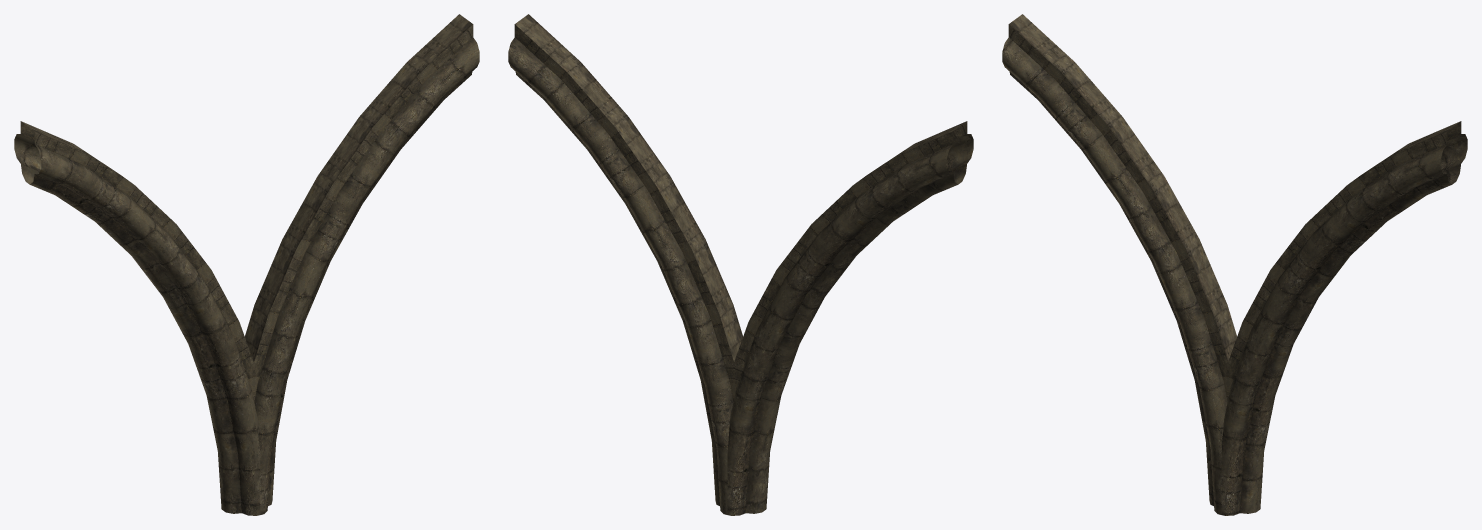
File: NC_arch.DAE
3 views of the same model, side by side, from view 1: azimuth 30°, elevation 25°; view 2: azimuth 150°, elevation 25°; view 3: azimuth 330°, elevation 25° (orthographic).
Visible parts, largest first — view 1: NC_arch; view 2: NC_arch; view 3: NC_arch.
Part boxes in pixels (bbox=[...]): NC_arch: bbox=[14, 14, 479, 515]; NC_arch: bbox=[508, 14, 973, 515]; NC_arch: bbox=[1002, 14, 1467, 515].
Bounding box in the file's own units: 5.5 × 0.5853 × 5.18.
